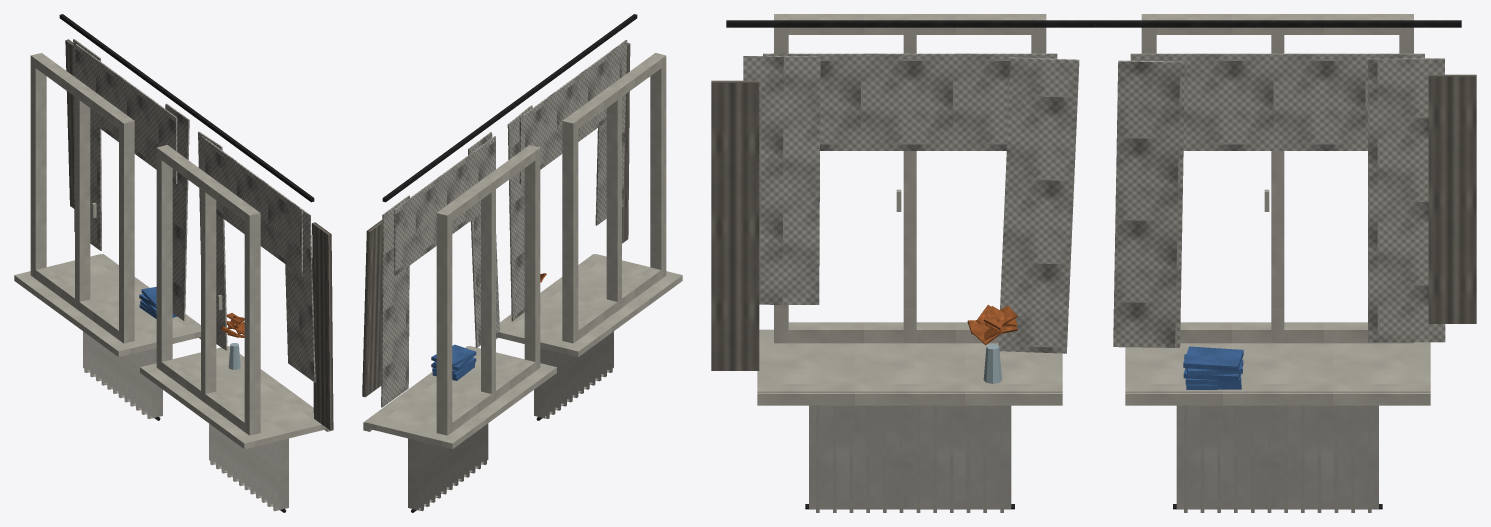
The model's file is Windows.obj.
3 renders of one model, left to right at view 1: azimuth 30°, elevation 25°; view 2: azimuth 150°, elevation 25°; view 3: azimuth 270°, elevation 25°, orthographic. The views are drawn at different scales.
Parts seen in each view (by area): view 1: frame, curtain, sill, radiator, rod, props; view 2: frame, curtain, sill, radiator, rod, props; view 3: curtain, radiator, sill, frame, rod, props.
Boxes of the visible parts, x1,y1,x2,y2 form: frame: (30,53,260,435); curtain: (65,39,333,430); sill: (14,254,333,449); radiator: (83,331,288,512); rod: (59,14,314,202); props: (139,287,244,369); frame: (436,53,666,435); curtain: (362,40,630,407); sill: (363,254,682,449); radiator: (408,331,613,512); rod: (382,14,637,202); props: (431,273,546,380); curtain: (711,53,1476,370); radiator: (805,405,1382,512); sill: (757,329,1430,405); frame: (774,14,1413,343); rod: (726,20,1461,27); props: (967,304,1243,389).
Size of the model in its own units: 0.82 by 2.93 by 4.16.
Materials: 8 (7 with a texture image).
